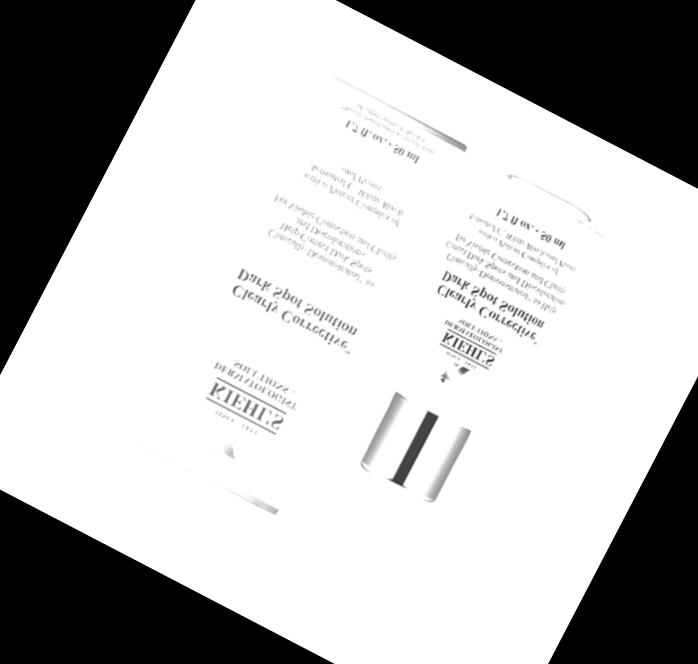cosmetic: (307, 174, 603, 581)
